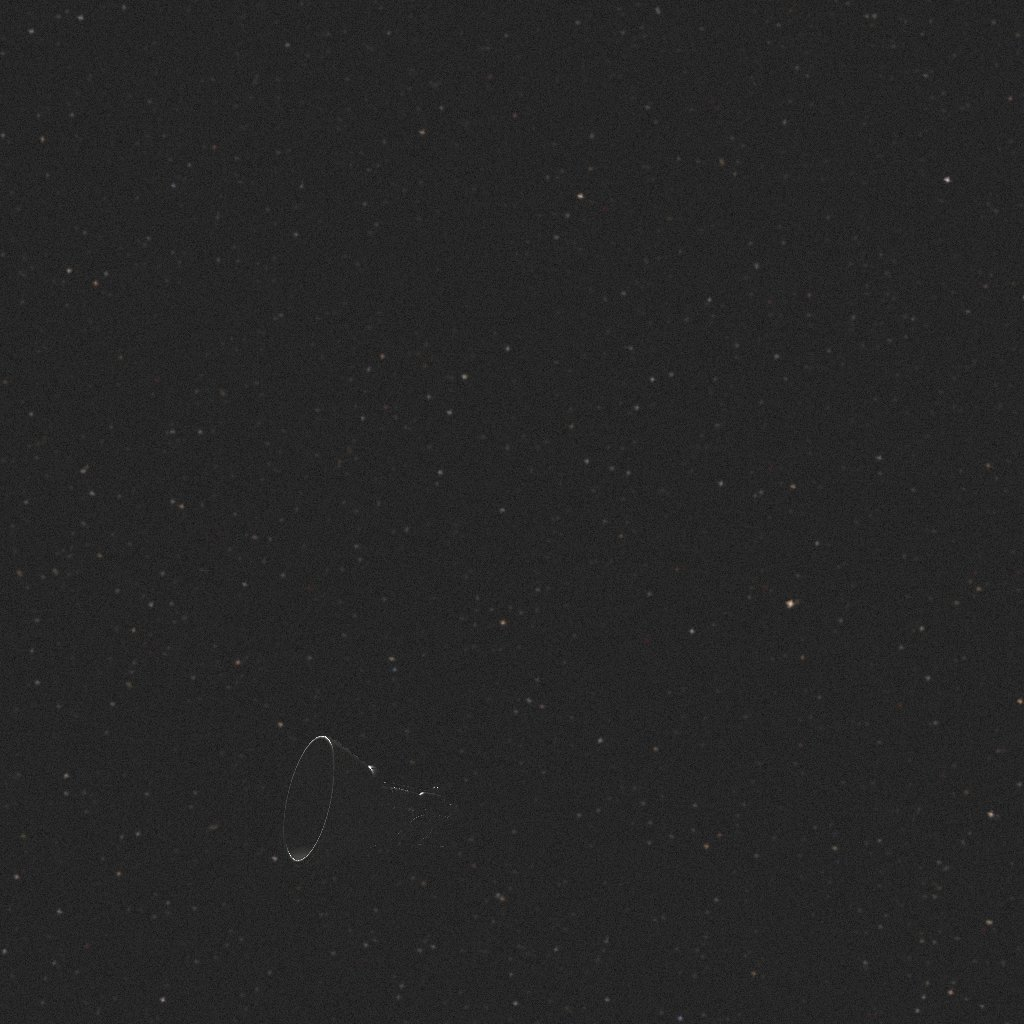debris: (265, 734, 390, 849)
